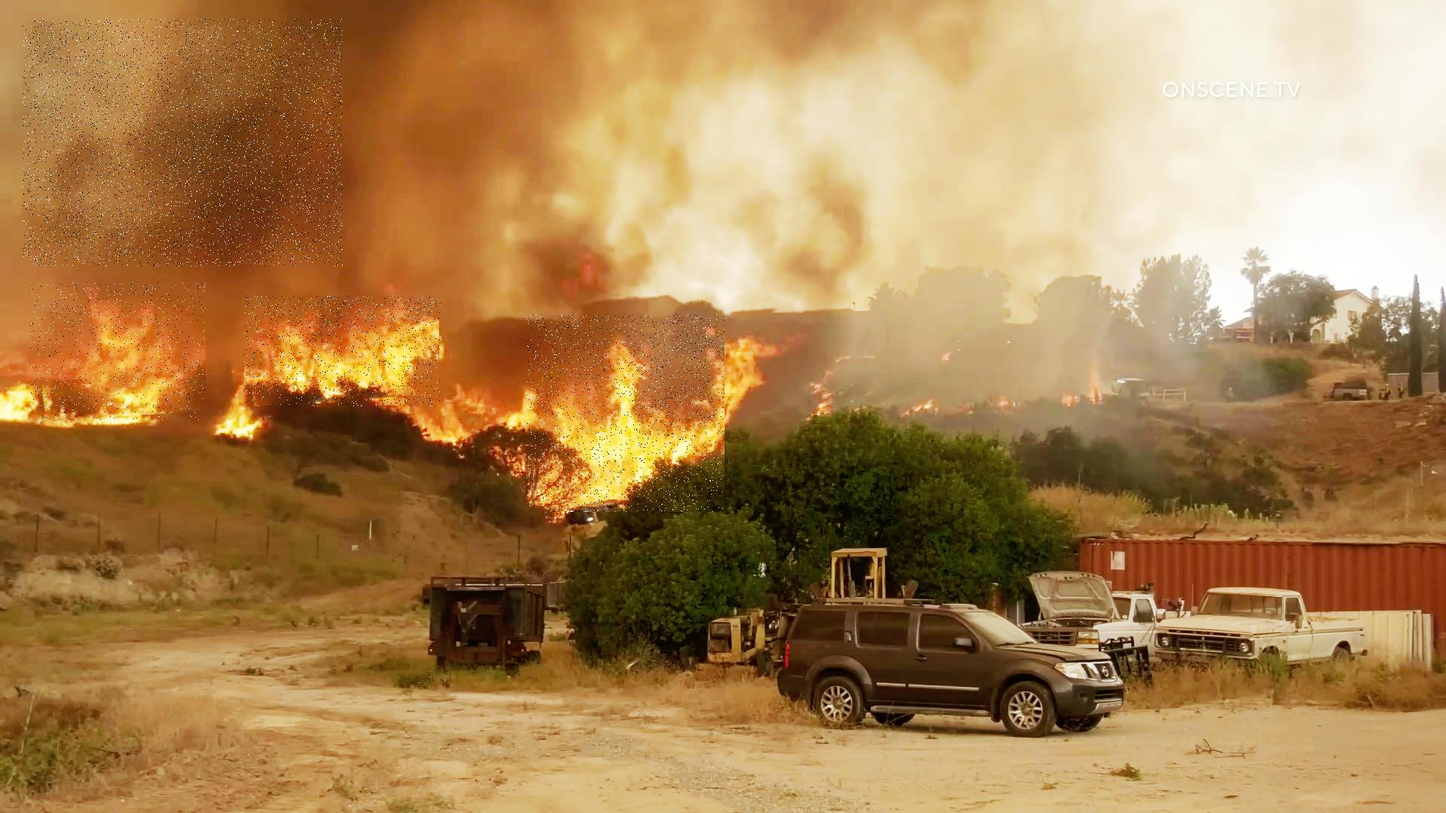fire: (527, 314, 725, 512), (30, 283, 206, 420), (245, 296, 441, 407)
smoke: (23, 19, 343, 267)
